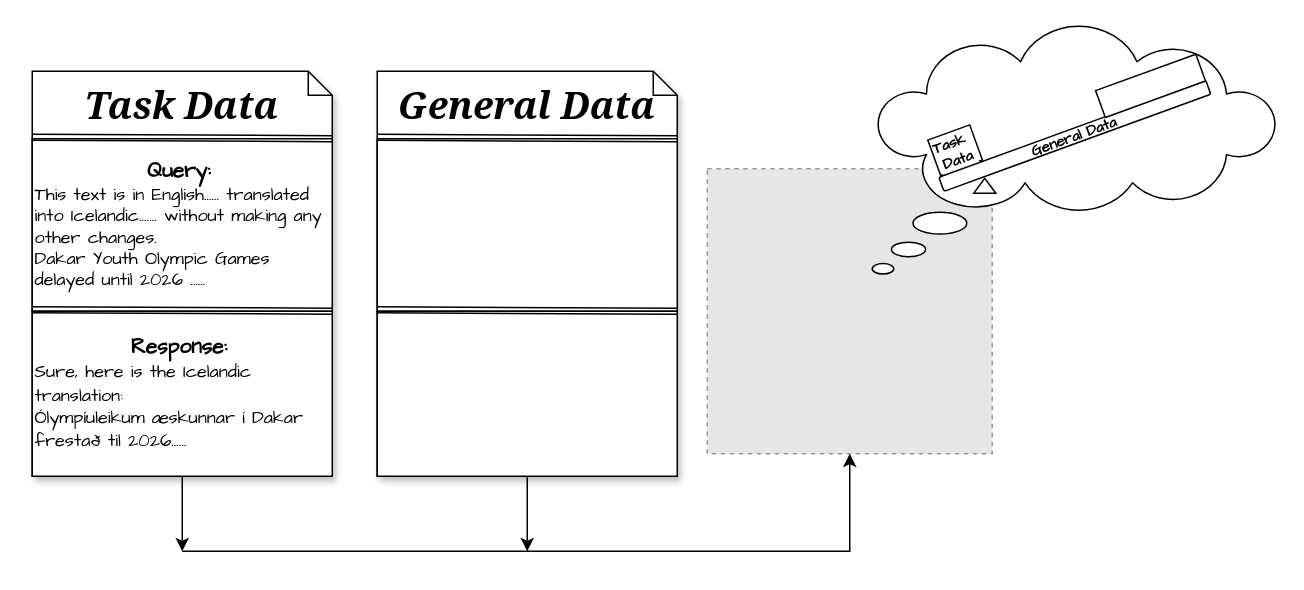
This 1304x590 diagram has some shape labels left out. Grey dashed boxes stand in for pictures. The shapes that lost their labels are listed below. From the top down, each one's centre as x and y in pixels, then its label:
At point 1150,85: "Task Learning".
At point 526,224: "Query : What is the capital of France?".
At point 526,393: "Response : The capital city of France is Paris.".
